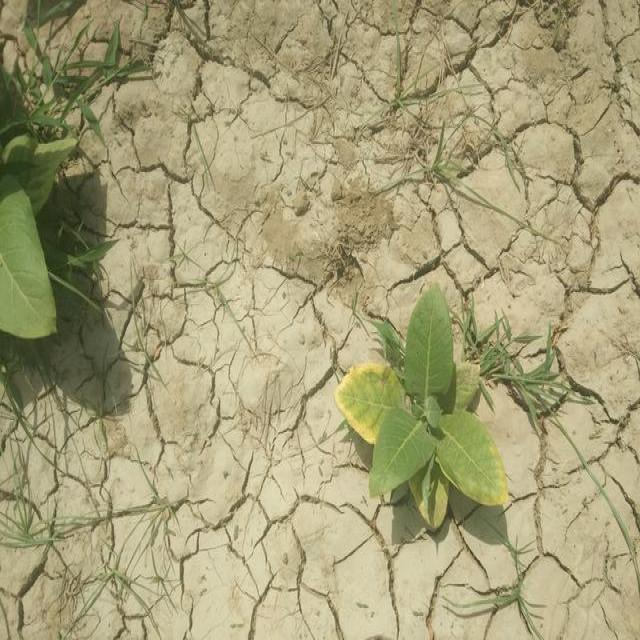crop: (335, 291, 515, 523)
